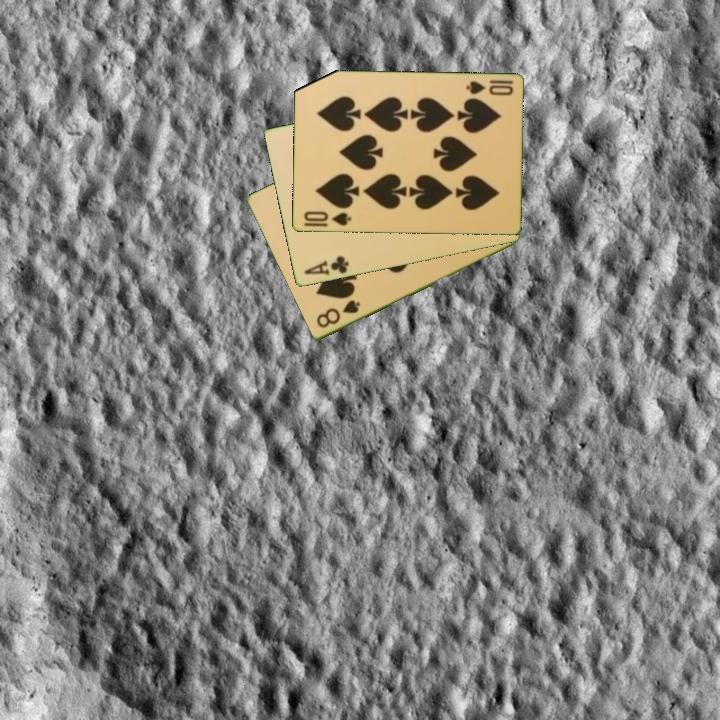10s: (300, 208, 354, 229), (462, 77, 516, 98)
8s: (313, 296, 363, 331)
Ac: (301, 253, 352, 279)
